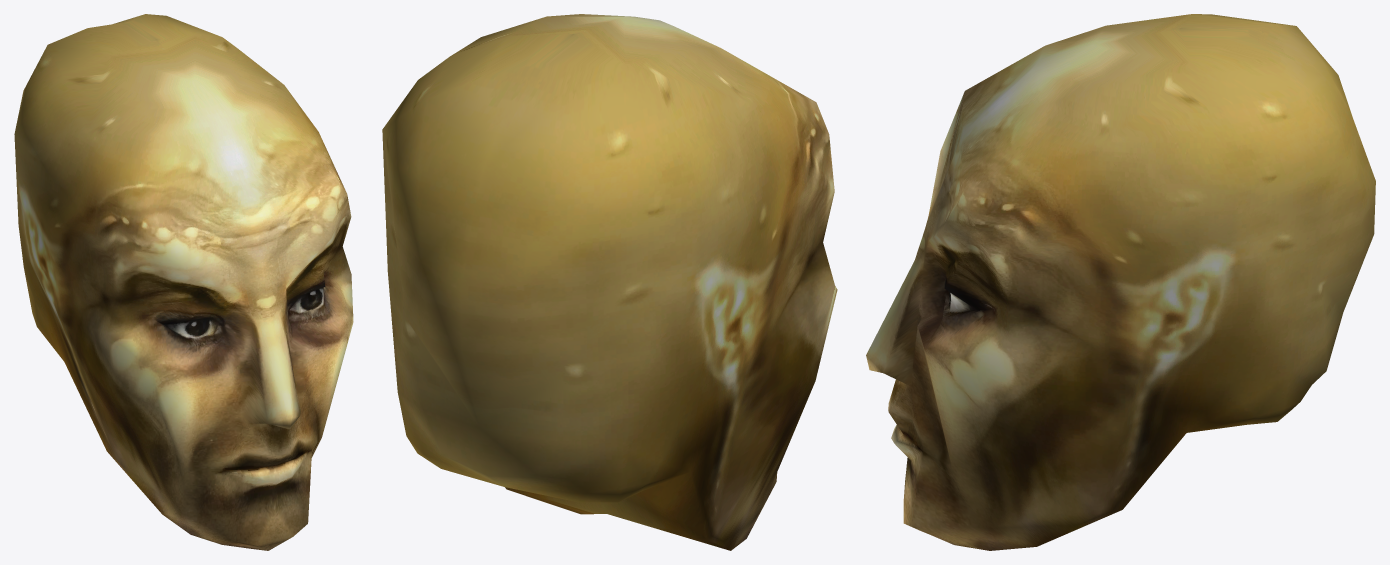
Rendered from b_n_high elf_m_head_02.glb.
3 views of the same model, side by side, from view 1: azimuth 30°, elevation 25°; view 2: azimuth 150°, elevation 25°; view 3: azimuth 270°, elevation 25° (orthographic). The views are drawn at different scales.
Visible parts, largest first — view 1: Tri B_N_High Elf_M_Head_02; view 2: Tri B_N_High Elf_M_Head_02; view 3: Tri B_N_High Elf_M_Head_02.
Boxes of the visible parts, x1=… form: Tri B_N_High Elf_M_Head_02: x1=14, y1=14, x2=353, y2=550; Tri B_N_High Elf_M_Head_02: x1=382, y1=14, x2=837, y2=550; Tri B_N_High Elf_M_Head_02: x1=866, y1=14, x2=1375, y2=550.
Bounding box in the file's own units: 0.0942 × 0.1534 × 0.1412.
Materials: 1 (1 with a texture image).
